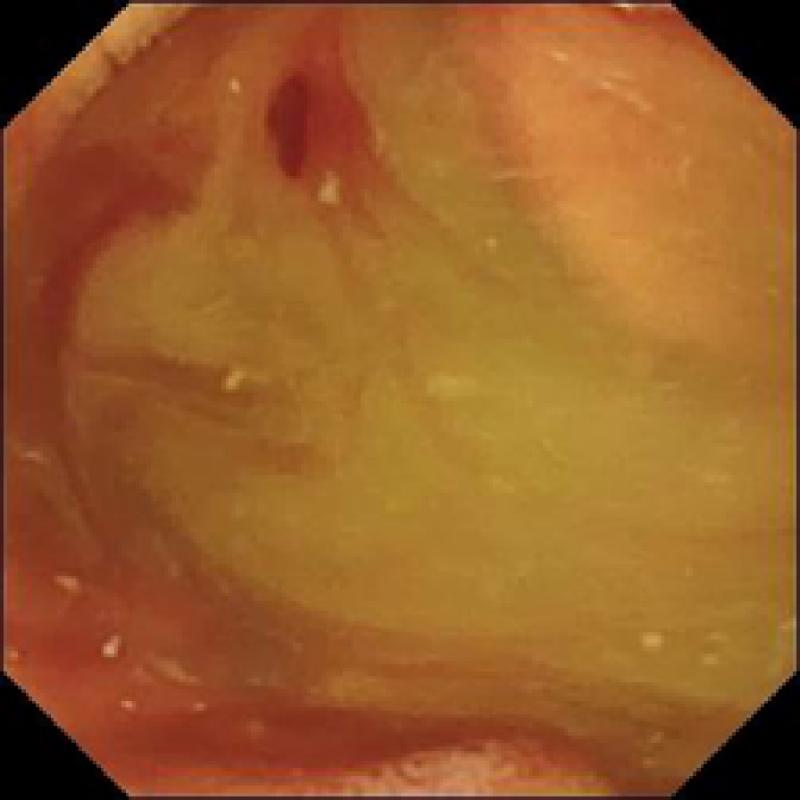bleeding: (0, 0, 507, 793)
